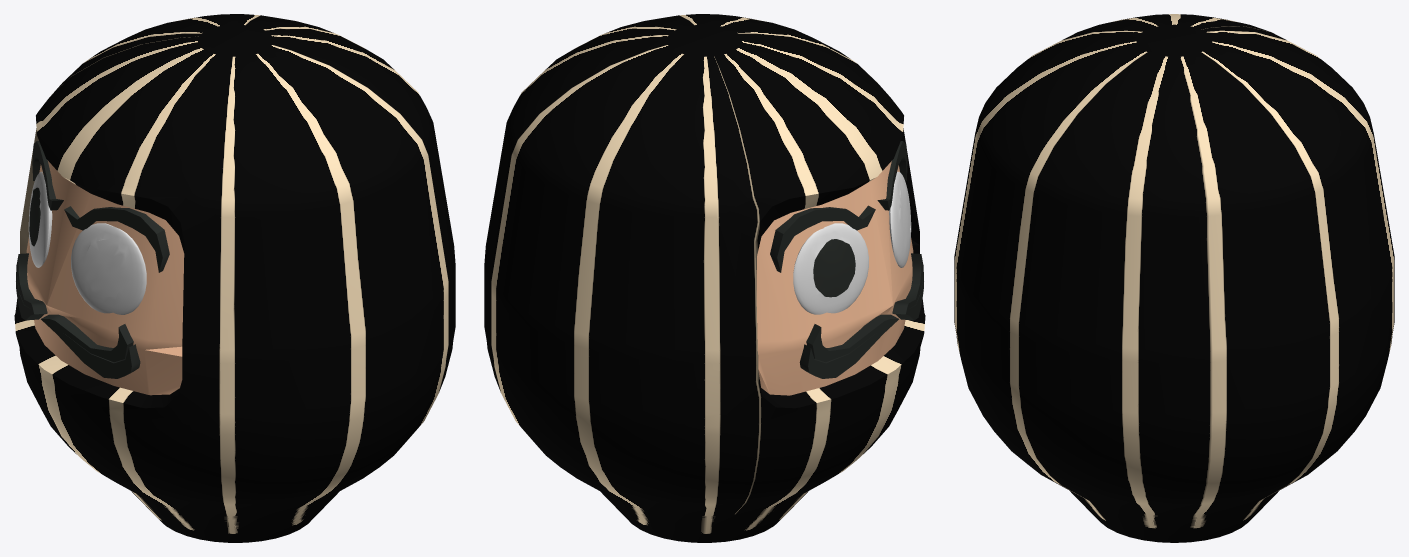
Rendered from daruma.glb.
3 renders of one model, left to right at view 1: azimuth 30°, elevation 25°; view 2: azimuth 150°, elevation 25°; view 3: azimuth 270°, elevation 25°, orthographic.
Parts seen in each view (by area): view 1: Cylinder; view 2: Cylinder; view 3: Cylinder.
Boxes of the visible parts, <box> form: Cylinder: <box>14,14,455,542</box>; Cylinder: <box>484,14,925,542</box>; Cylinder: <box>954,14,1394,542</box>.
Bounding box in the file's own units: 2.67 × 3.07 × 2.62.
4 materials, 1 textured.
